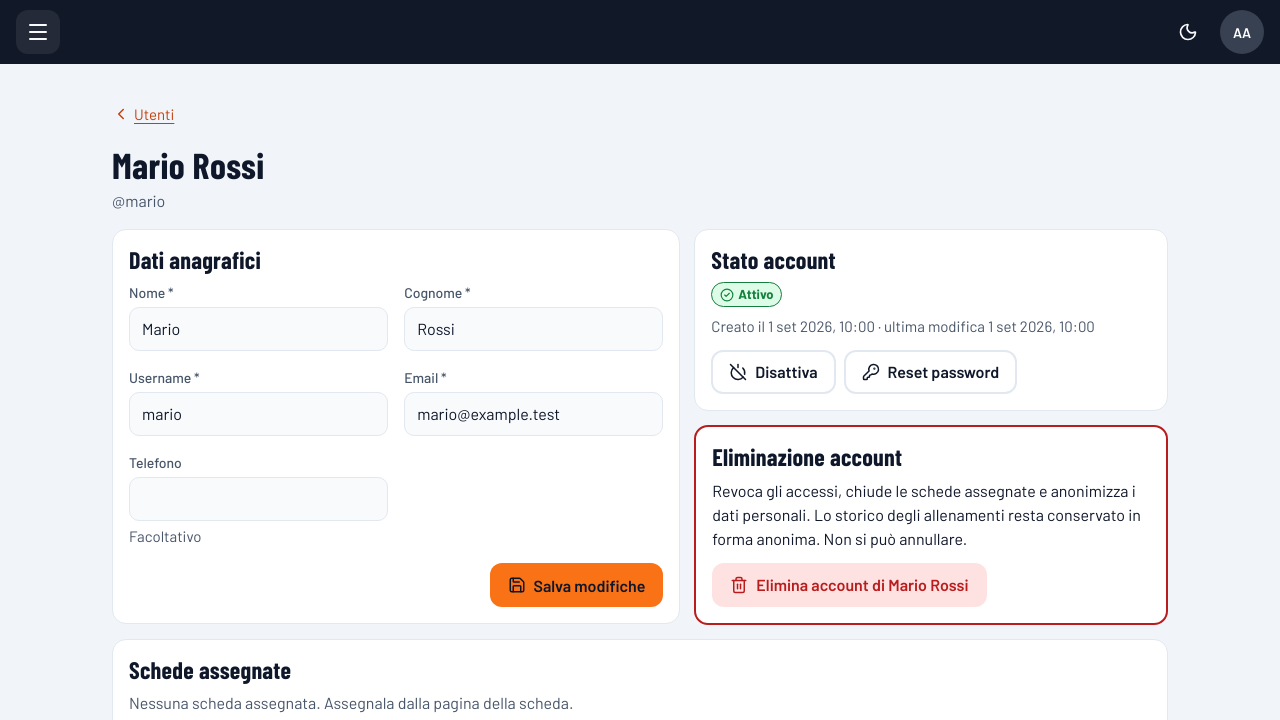
it: user detail › shows the reset password once after confirmation
The width and height of the screenshot is (1280, 720).
Click the button "Reset password" at [930, 372], box x1=844 y1=350 x2=1017 y2=394
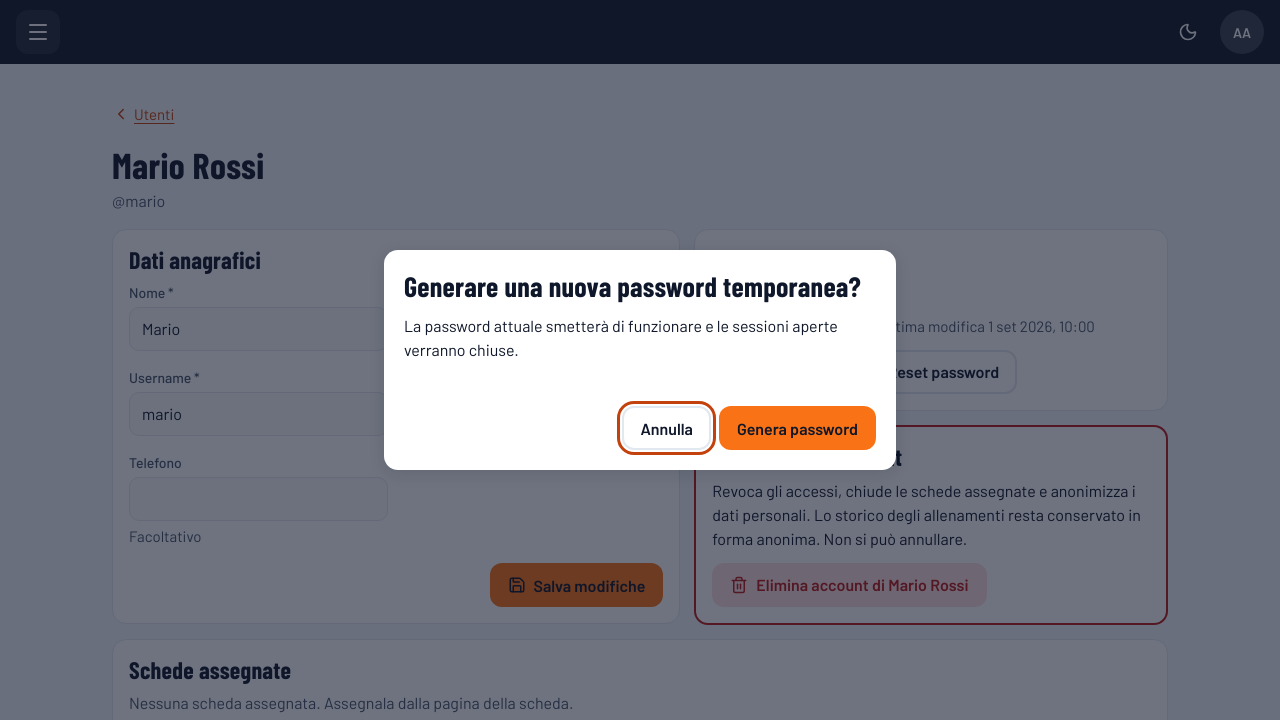
Click the button "Genera password" at [797, 428], box x1=719 y1=406 x2=876 y2=450
(page scrolled)
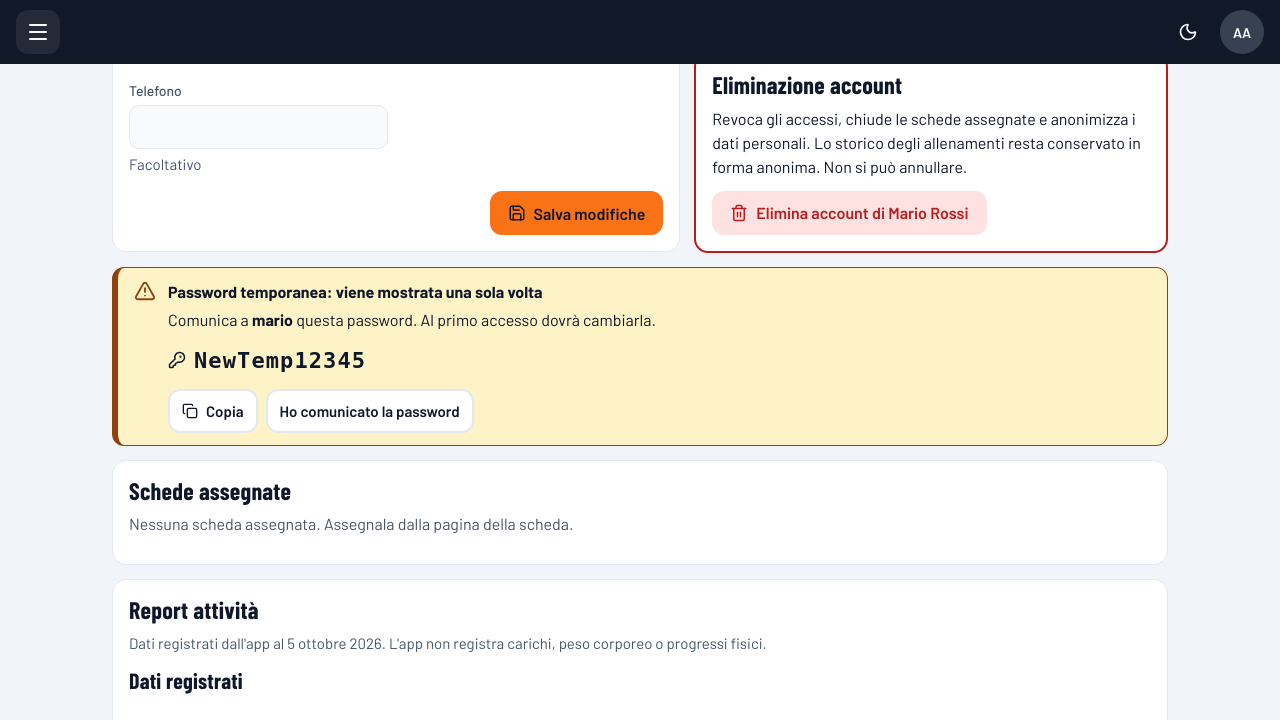
Now the text with test id "temporary-password" reads "NewTemp12345", box x1=194 y1=348 x2=366 y2=373
